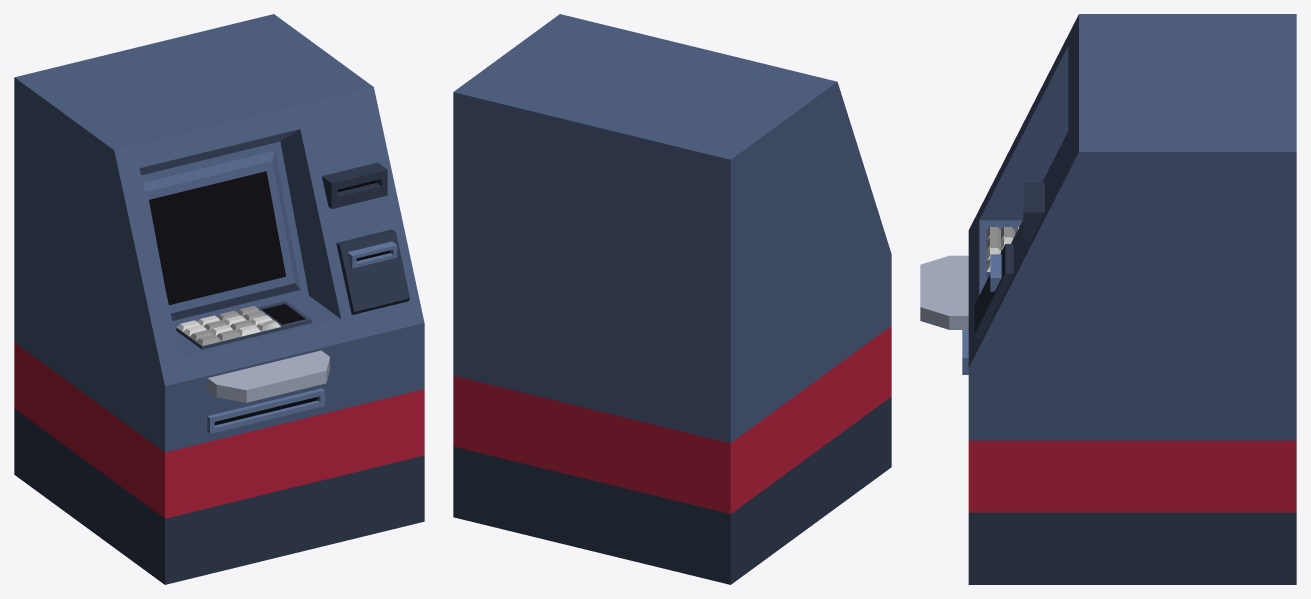
The model's file is ATM1.FBX.
The picture shows the model from 3 angles, left to right: view 1: azimuth 30°, elevation 25°; view 2: azimuth 150°, elevation 25°; view 3: azimuth 270°, elevation 25°; orthographic projection. The views are drawn at different scales.
Visible parts, largest first — view 1: ATM1; view 2: ATM1; view 3: ATM1.
Part boxes in pixels (x1,y1,x2,y2): ATM1: (14,14,424,584); ATM1: (453,14,891,584); ATM1: (920,14,1296,584).
Size of the model in its own units: 9.89 by 14.47 by 11.39.
